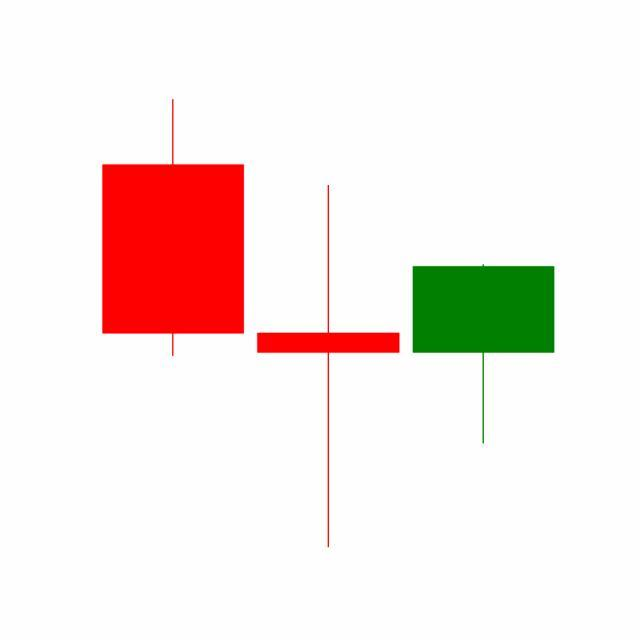Spinning Top: (250, 182, 407, 552)
